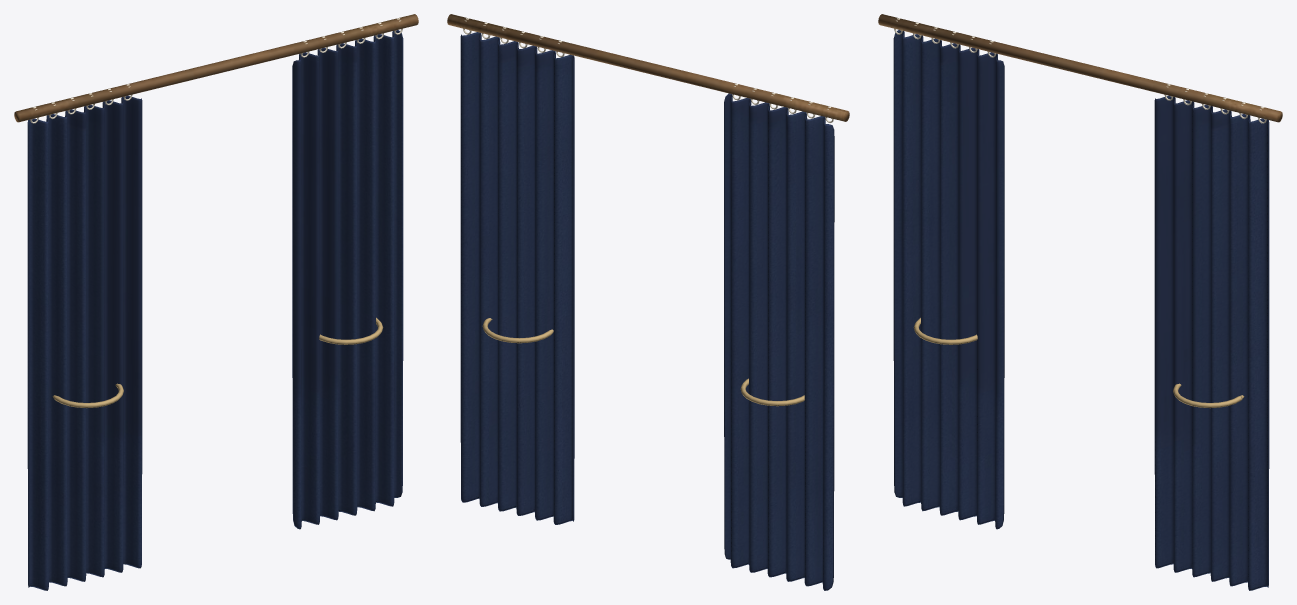
Rendered from curtain_indigo.glb.
3 views of the same model, side by side, from view 1: azimuth 30°, elevation 25°; view 2: azimuth 150°, elevation 25°; view 3: azimuth 330°, elevation 25° (orthographic).
Visible parts, largest first — view 1: curtain_indigo_panel0, curtain_indigo_panel2, curtain_indigo_wood, curtain_indigo_hemp; view 2: curtain_indigo_panel2, curtain_indigo_panel0, curtain_indigo_wood, curtain_indigo_hemp; view 3: curtain_indigo_panel2, curtain_indigo_panel0, curtain_indigo_wood, curtain_indigo_hemp.
Boxes of the visible parts, x1,y1,x2,y2 form: curtain_indigo_panel0: (27, 95, 142, 590); curtain_indigo_panel2: (292, 30, 403, 529); curtain_indigo_wood: (14, 14, 418, 122); curtain_indigo_hemp: (52, 317, 383, 408); curtain_indigo_panel2: (460, 32, 574, 524); curtain_indigo_panel0: (724, 93, 834, 590); curtain_indigo_wood: (447, 14, 849, 121); curtain_indigo_hemp: (482, 318, 804, 406); curtain_indigo_panel2: (1154, 95, 1269, 590); curtain_indigo_panel0: (893, 30, 1004, 529); curtain_indigo_wood: (878, 14, 1282, 122); curtain_indigo_hemp: (913, 317, 1244, 408).
Size of the model in its own units: 3.2 by 3.7 by 0.516.
5 materials, 3 textured.
